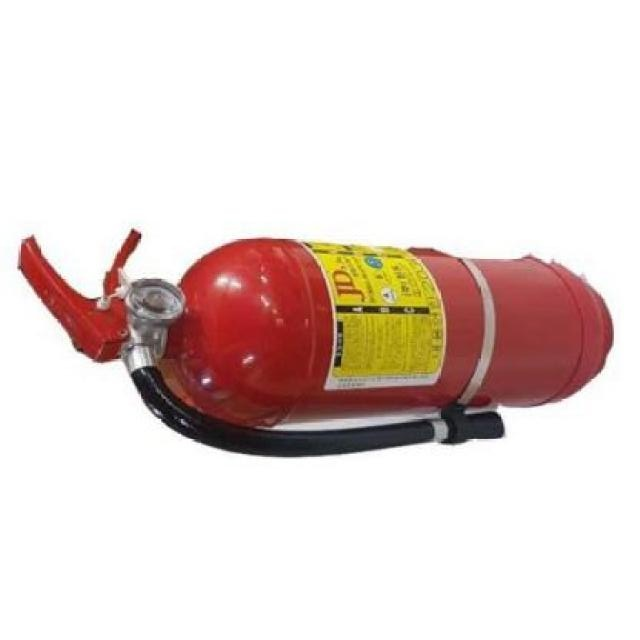fire extinguisher: (16, 227, 615, 458)
